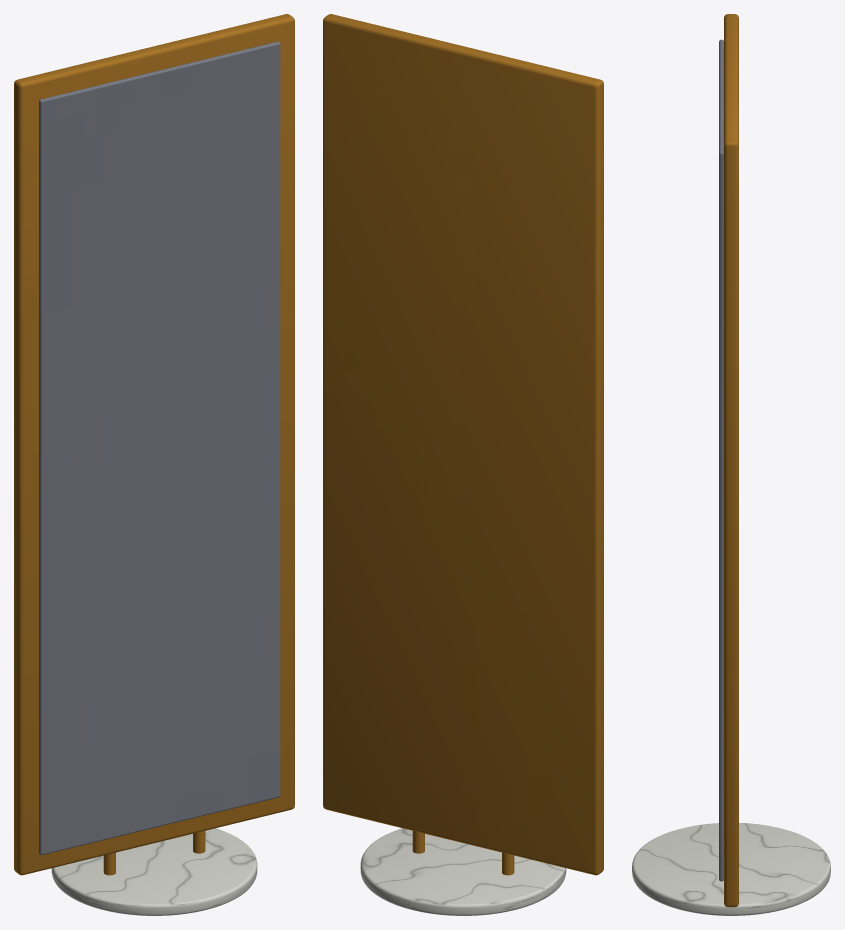
Rendered from razoredge-modern-floor-mirror.glb.
3 renders of one model, left to right at view 1: azimuth 30°, elevation 25°; view 2: azimuth 150°, elevation 25°; view 3: azimuth 270°, elevation 25°, orthographic. The views are drawn at different scales.
Visible parts, largest first — view 1: glass, frame, base; view 2: frame, base; view 3: base, frame, glass.
Part boxes in pixels (bbox=[...]): glass: bbox=[39, 41, 280, 855]; frame: bbox=[14, 14, 294, 875]; base: bbox=[51, 828, 257, 915]; frame: bbox=[323, 14, 603, 875]; base: bbox=[360, 828, 566, 915]; base: bbox=[632, 823, 830, 915]; frame: bbox=[724, 14, 738, 907]; glass: bbox=[719, 39, 723, 881].
Size of the model in its own units: 0.6199 by 1.77 by 0.4.
Materials: 3 (3 with a texture image).
